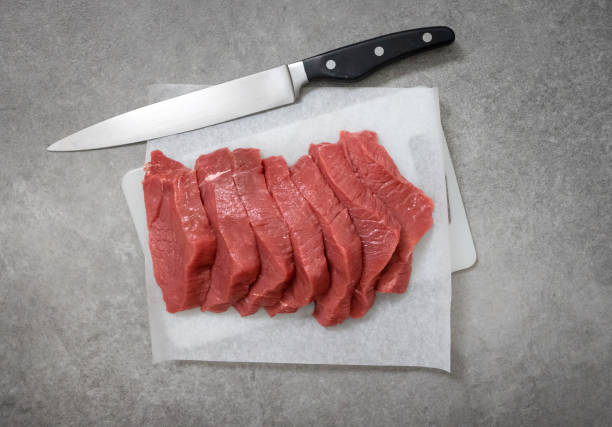knife: (43, 23, 457, 153)
